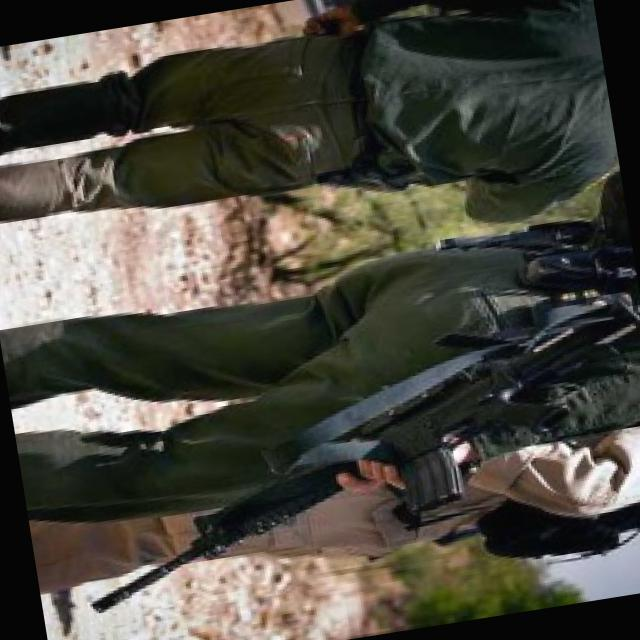long weapon: (49, 283, 639, 639)
